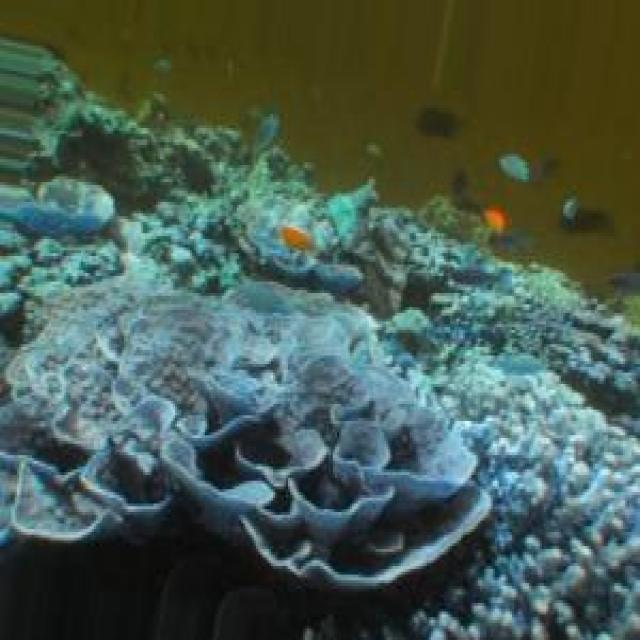Bleached: (123, 288, 490, 598), (440, 411, 632, 635), (10, 291, 174, 541)
